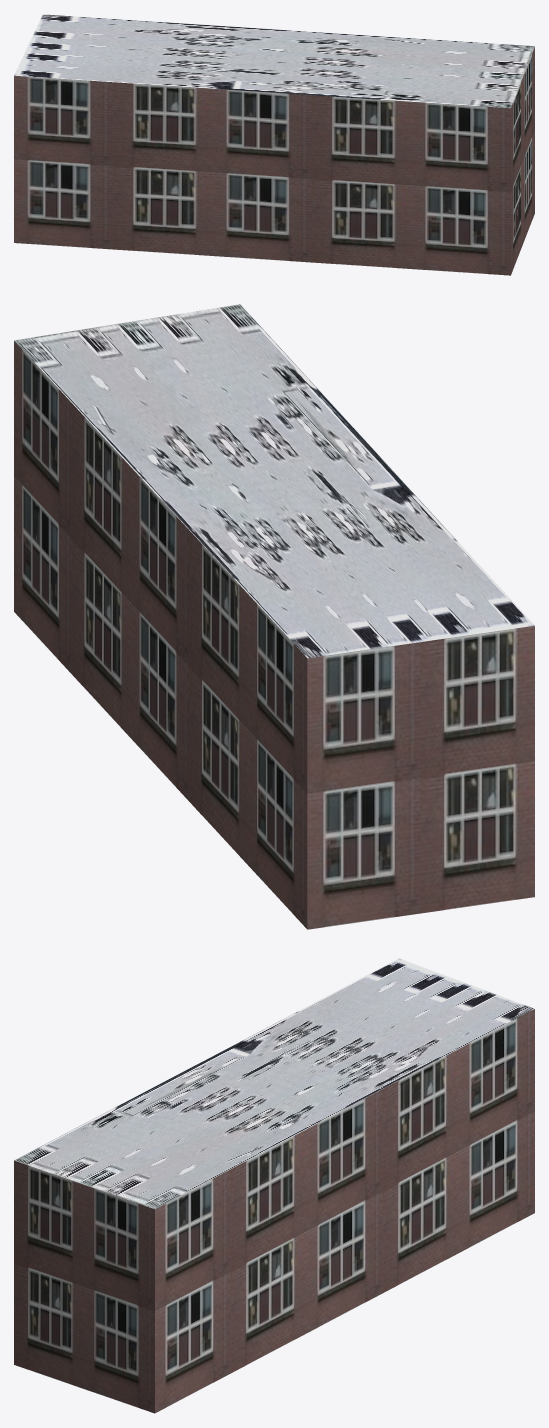
File: ResTex__4688.fbx
3 views of the same model, one above another, from view 1: azimuth 30°, elevation 25°; view 2: azimuth 150°, elevation 25°; view 3: azimuth 270°, elevation 25° (orthographic). The views are drawn at different scales.
Parts seen in each view (by area): view 1: CityEngineMaterial_12_m, CityEngineMaterial_8_m; view 2: CityEngineMaterial_12_m, CityEngineMaterial_8_m; view 3: CityEngineMaterial_12_m, CityEngineMaterial_8_m.
Boxes of the visible parts, bbox=[...] form: CityEngineMaterial_12_m: bbox=[14, 47, 534, 275]; CityEngineMaterial_8_m: bbox=[14, 14, 534, 108]; CityEngineMaterial_12_m: bbox=[14, 341, 534, 929]; CityEngineMaterial_8_m: bbox=[14, 304, 534, 658]; CityEngineMaterial_12_m: bbox=[14, 1009, 534, 1413]; CityEngineMaterial_8_m: bbox=[14, 958, 534, 1209].
Size of the model in its own units: 15.8 by 6 by 13.87.
2 materials, 2 textured.
